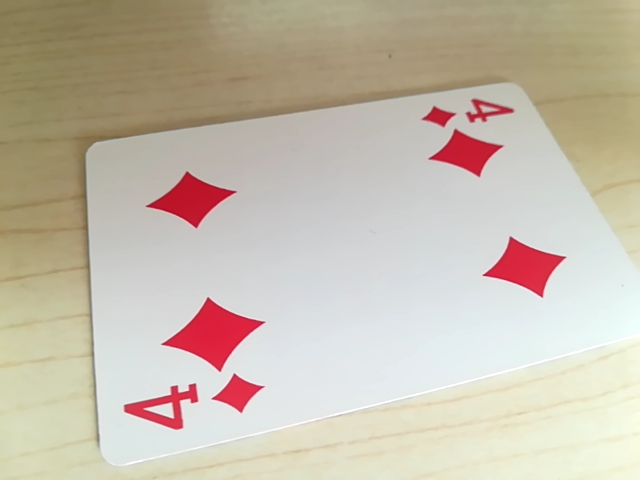fk 4: (122, 370, 268, 446), (420, 92, 520, 132)
